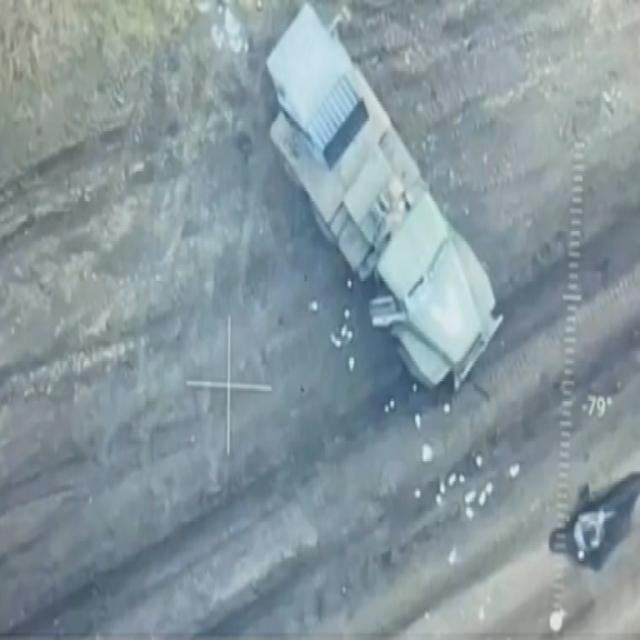MLRS: (261, 0, 504, 407)
